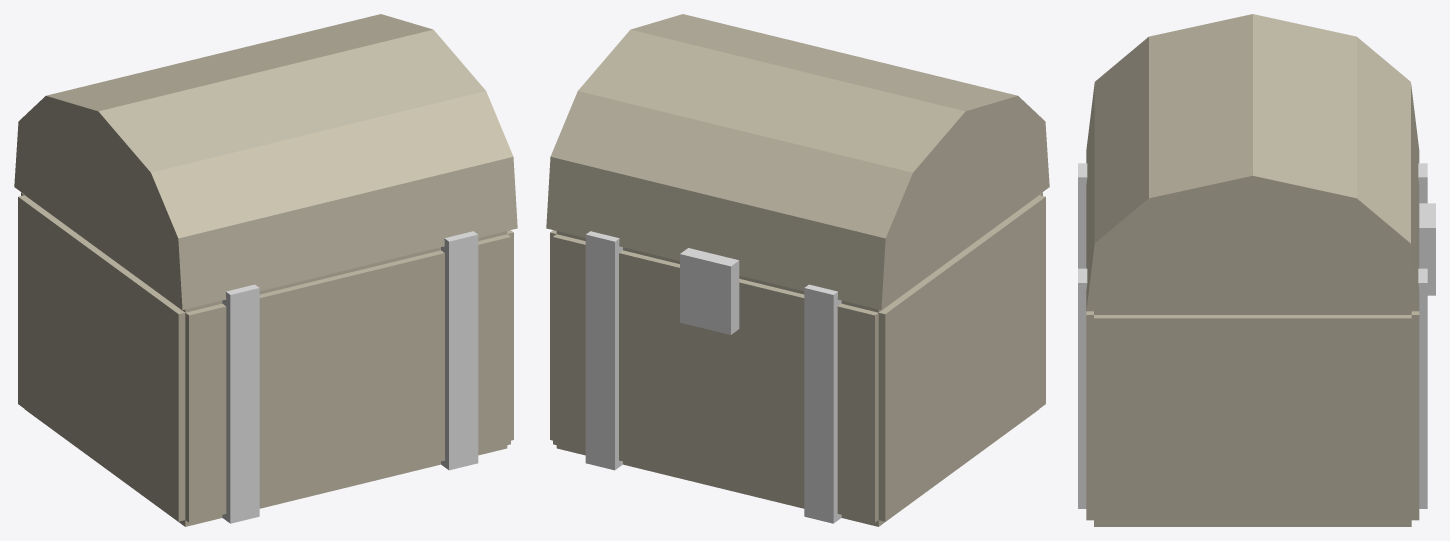
The model's file is bone_chest_v0.glb.
3 views of the same model, side by side, from view 1: azimuth 30°, elevation 25°; view 2: azimuth 150°, elevation 25°; view 3: azimuth 270°, elevation 25° (orthographic).
Parts seen in each view (by area): view 1: bone_chest_v0; view 2: bone_chest_v0; view 3: bone_chest_v0.
Boxes of the visible parts, x1=… form: bone_chest_v0: x1=14, y1=14, x2=517, y2=526; bone_chest_v0: x1=546, y1=14, x2=1049, y2=526; bone_chest_v0: x1=1078, y1=14, x2=1435, y2=526.
Bounding box in the file's own units: 0.92 × 0.94 × 0.86.
